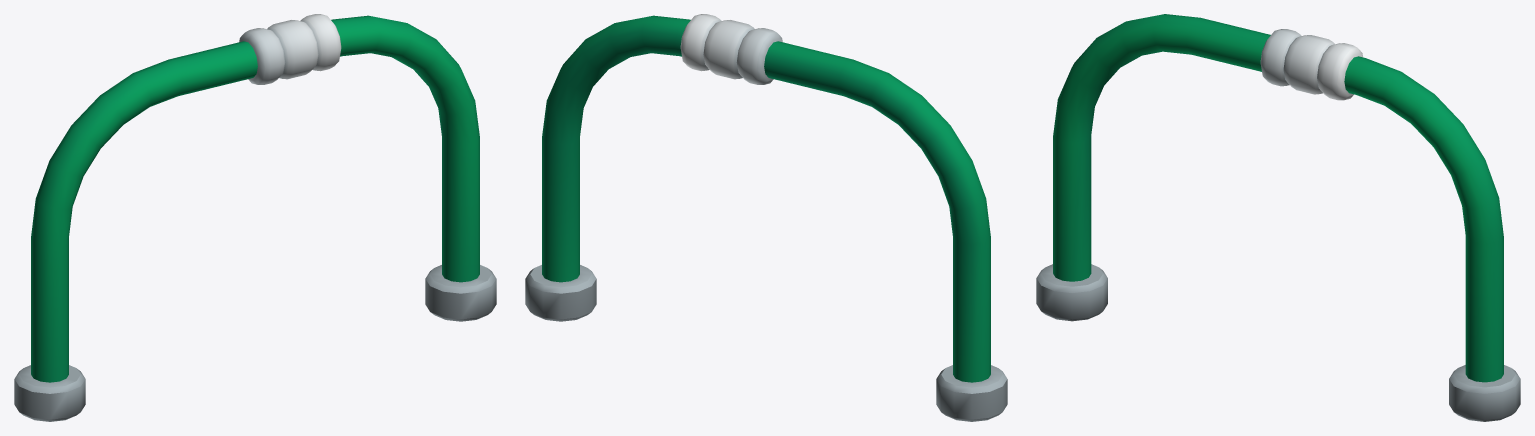
Rendered from arch_wide_green.glb.
3 views of the same model, side by side, from view 1: azimuth 30°, elevation 25°; view 2: azimuth 150°, elevation 25°; view 3: azimuth 330°, elevation 25° (orthographic).
Parts seen in each view (by area): view 1: arch_wide_green; view 2: arch_wide_green; view 3: arch_wide_green.
Boxes of the visible parts, <box> form: arch_wide_green: <box>14,14,496,421</box>; arch_wide_green: <box>525,14,1007,421</box>; arch_wide_green: <box>1036,14,1520,421</box>.
Bounding box in the file's own units: 5.75 × 3.8 × 0.75.
1 material, 1 textured.
